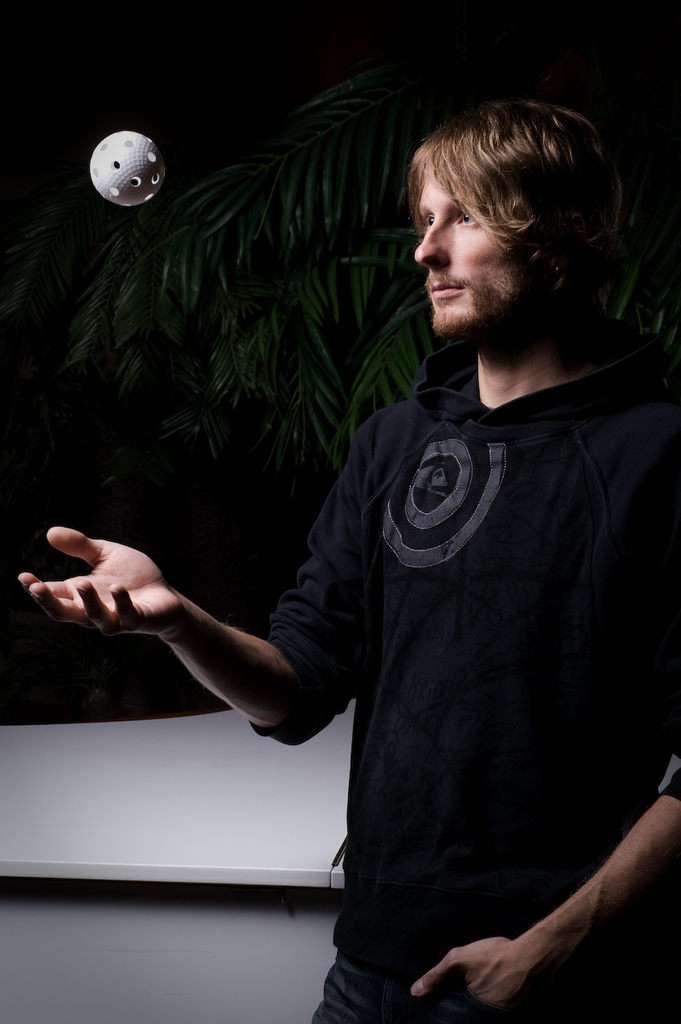Ball: (90, 131, 167, 212)
